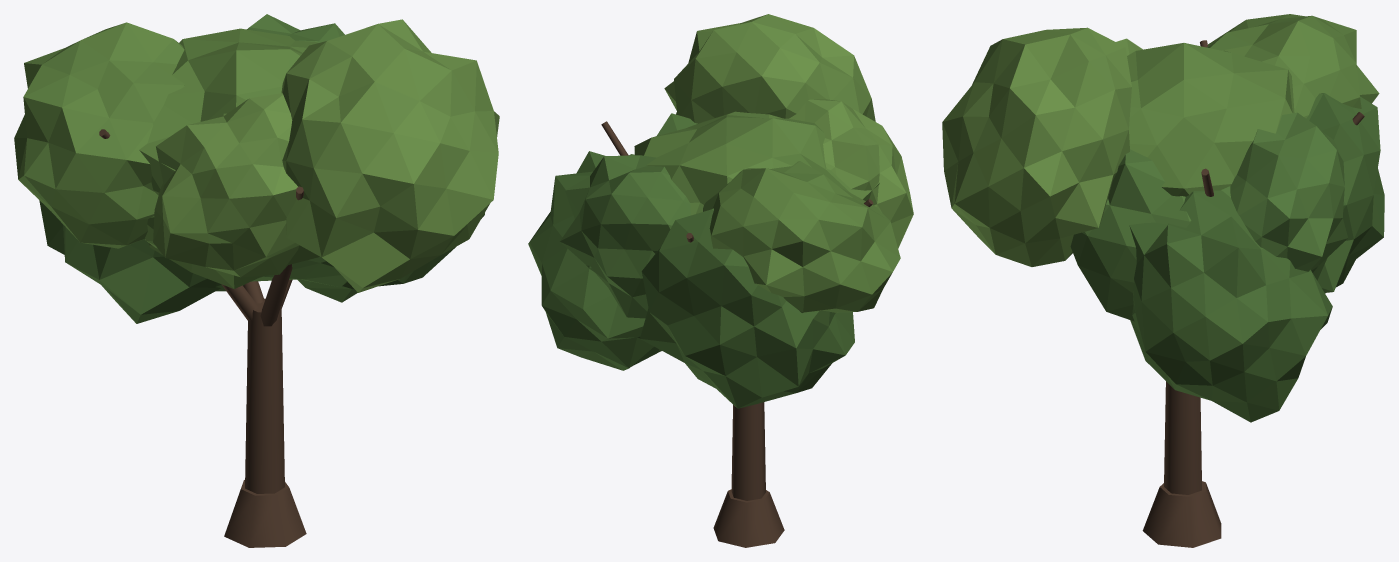
The model's file is tree-broad-3.obj.
3 views of the same model, side by side, from view 1: azimuth 30°, elevation 25°; view 2: azimuth 150°, elevation 25°; view 3: azimuth 270°, elevation 25° (orthographic). The views are drawn at different scales.
Parts seen in each view (by area): view 1: part1; view 2: part1; view 3: part1.
Part boxes in pixels (x1,y1,x2,y2): part1: (14, 14, 499, 547); part1: (528, 14, 913, 547); part1: (942, 14, 1384, 547).
Size of the model in its own units: 5.95 by 7.11 by 5.46.
